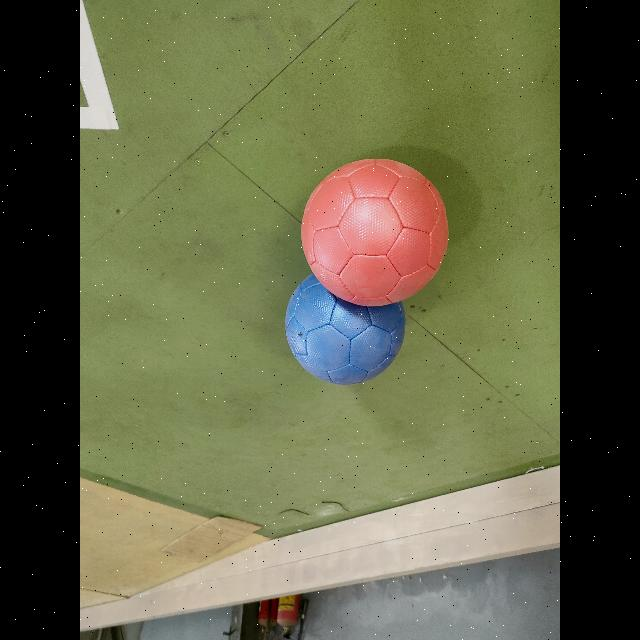B: (284, 273, 406, 386)
R: (301, 157, 447, 306)
